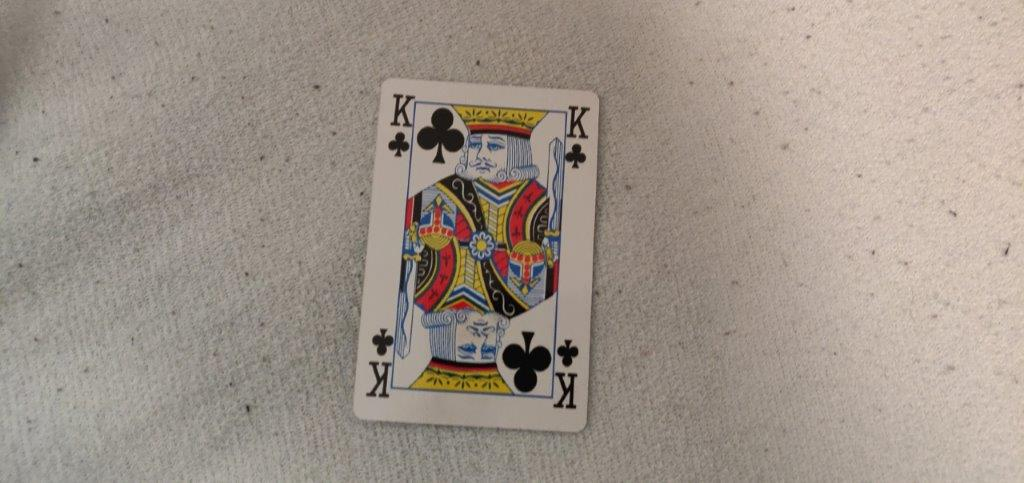KC: (382, 86, 418, 160), (562, 101, 590, 174)
